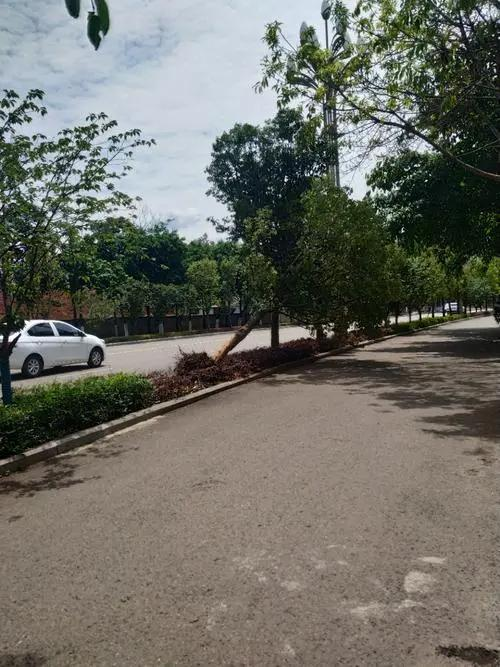Downstairs: (201, 189, 367, 372)
